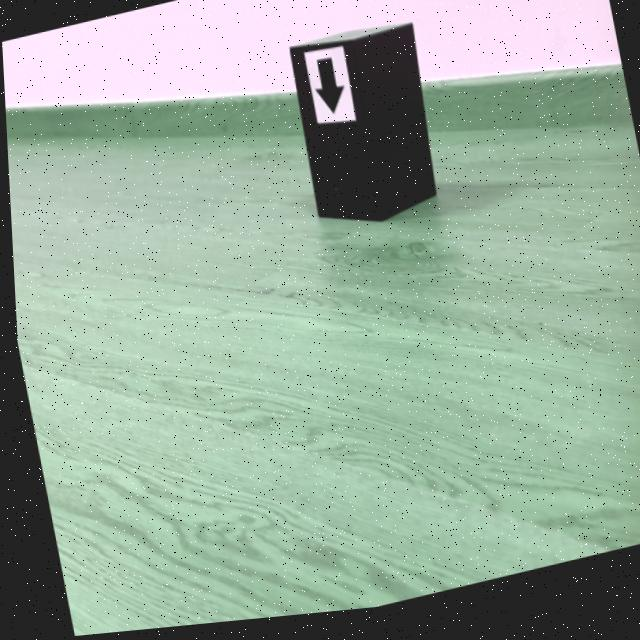DOWN: (315, 64, 342, 119)
